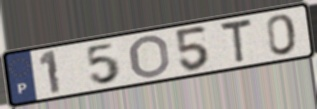0: (266, 13, 299, 57)
1: (38, 47, 64, 96)
5: (174, 22, 212, 74), (87, 40, 124, 87)
O: (128, 34, 172, 80)
T: (218, 17, 254, 65)
